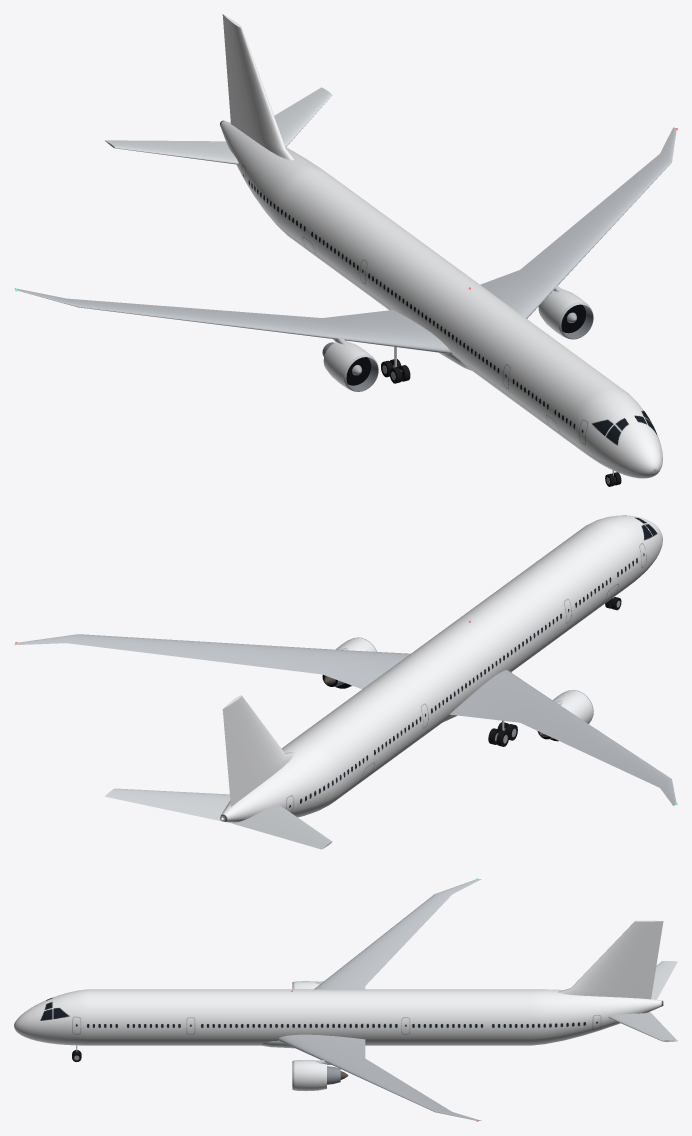
3 views of the same model, one above another, from view 1: azimuth 30°, elevation 25°; view 2: azimuth 150°, elevation 25°; view 3: azimuth 270°, elevation 25° (orthographic). The views are drawn at different scales.
Parts seen in each view (by area): view 1: body, gear; view 2: body, gear; view 3: body.
Boxes of the visible parts, x1,y1,x2,y2 form: body: (14, 14, 677, 478); gear: (381, 347, 621, 486); body: (14, 515, 677, 849); gear: (488, 597, 621, 746); body: (14, 878, 677, 1121).
Bounding box in the file's own units: 60.42 × 16.15 × 69.81.
19 materials, 1 textured.
